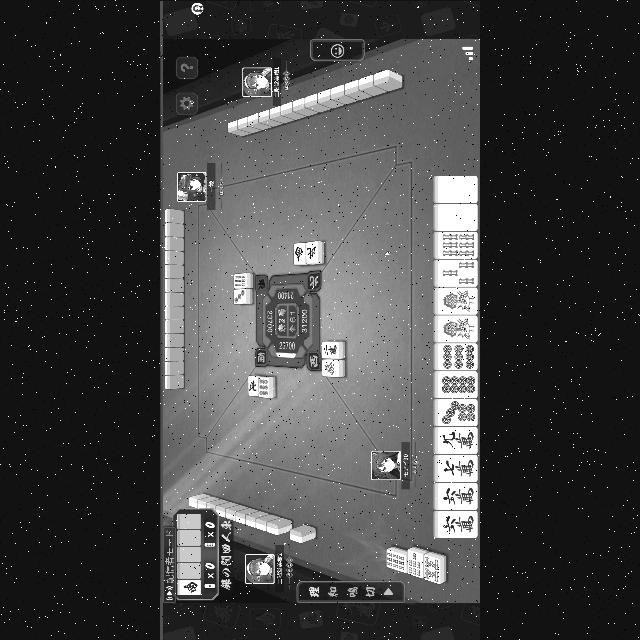1s: (442, 316, 476, 339), (444, 288, 476, 312)
2m: (323, 343, 337, 355)
3p: (234, 288, 246, 302)
3s: (443, 260, 477, 284)
6m: (442, 484, 476, 508), (442, 512, 476, 534)
6s: (442, 232, 476, 256)
7m: (443, 457, 477, 479)
7p: (442, 400, 476, 424)
7s: (410, 552, 422, 576)
8p: (442, 374, 476, 394)
8s: (425, 555, 439, 581)
9m: (442, 429, 476, 451)
9p: (442, 343, 476, 369), (260, 377, 268, 395)
9s: (388, 550, 404, 570), (234, 274, 246, 286)
haku: (442, 204, 476, 230), (442, 175, 476, 201)
hatsu: (324, 360, 336, 374)
nan: (294, 244, 306, 262), (183, 580, 199, 592)
pe: (306, 243, 318, 261), (248, 378, 258, 392)
